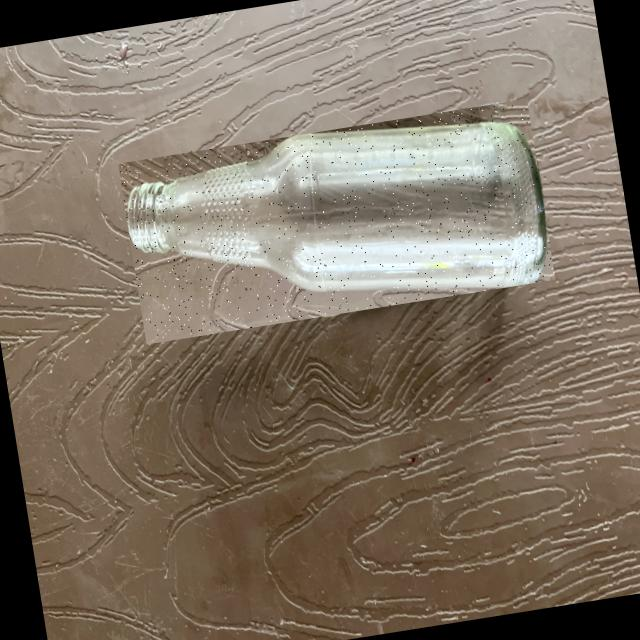Glass_Bottle: (128, 122, 546, 290)
